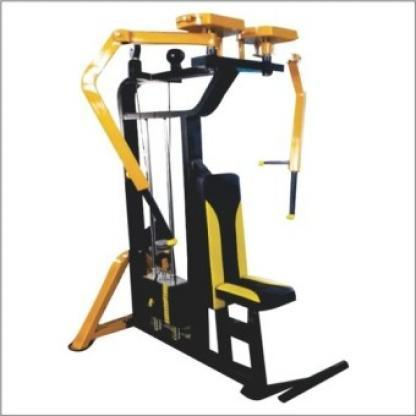chest fly machine: (48, 9, 365, 407)
